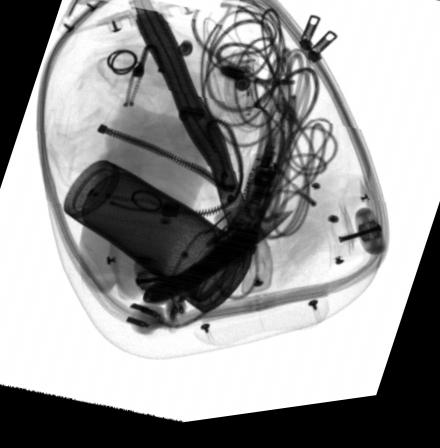Knife: (141, 218, 293, 309)
